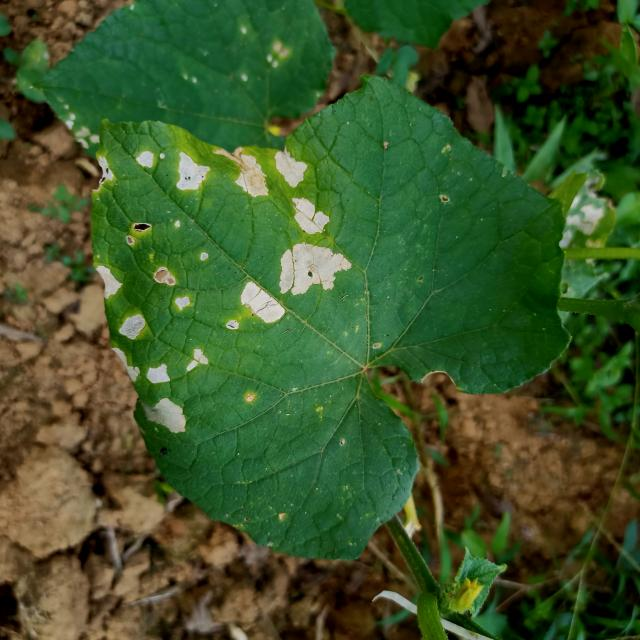disease_cucumber: (242, 242, 352, 321), (134, 141, 208, 191), (232, 150, 308, 198), (139, 362, 186, 434), (152, 264, 191, 310), (292, 196, 329, 234), (96, 260, 122, 301), (113, 346, 139, 384), (119, 310, 147, 339), (183, 346, 210, 370)
